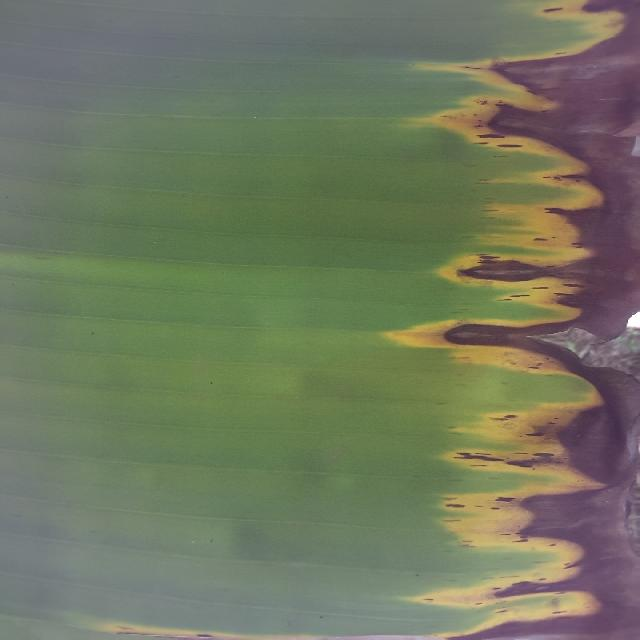Cordana: (300, 0, 640, 640), (84, 597, 303, 640)
